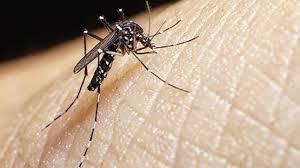Insects: (40, 0, 202, 168)
